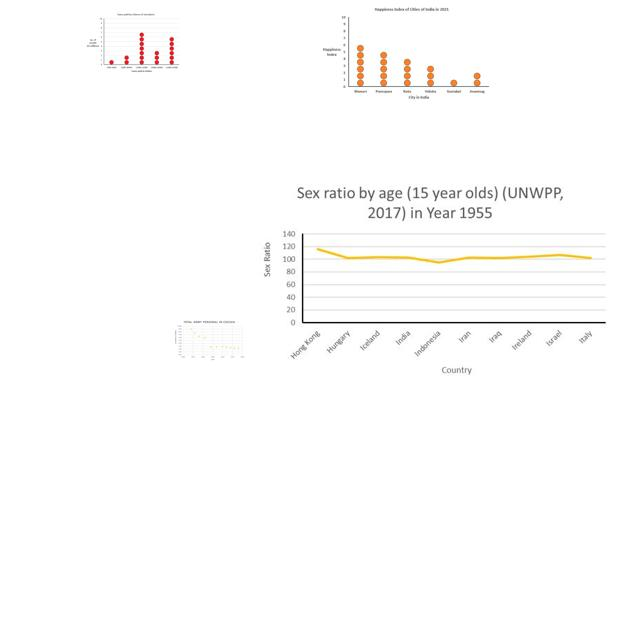Graph: (259, 178, 614, 376), (320, 5, 490, 102), (84, 11, 181, 75), (174, 319, 245, 362)
